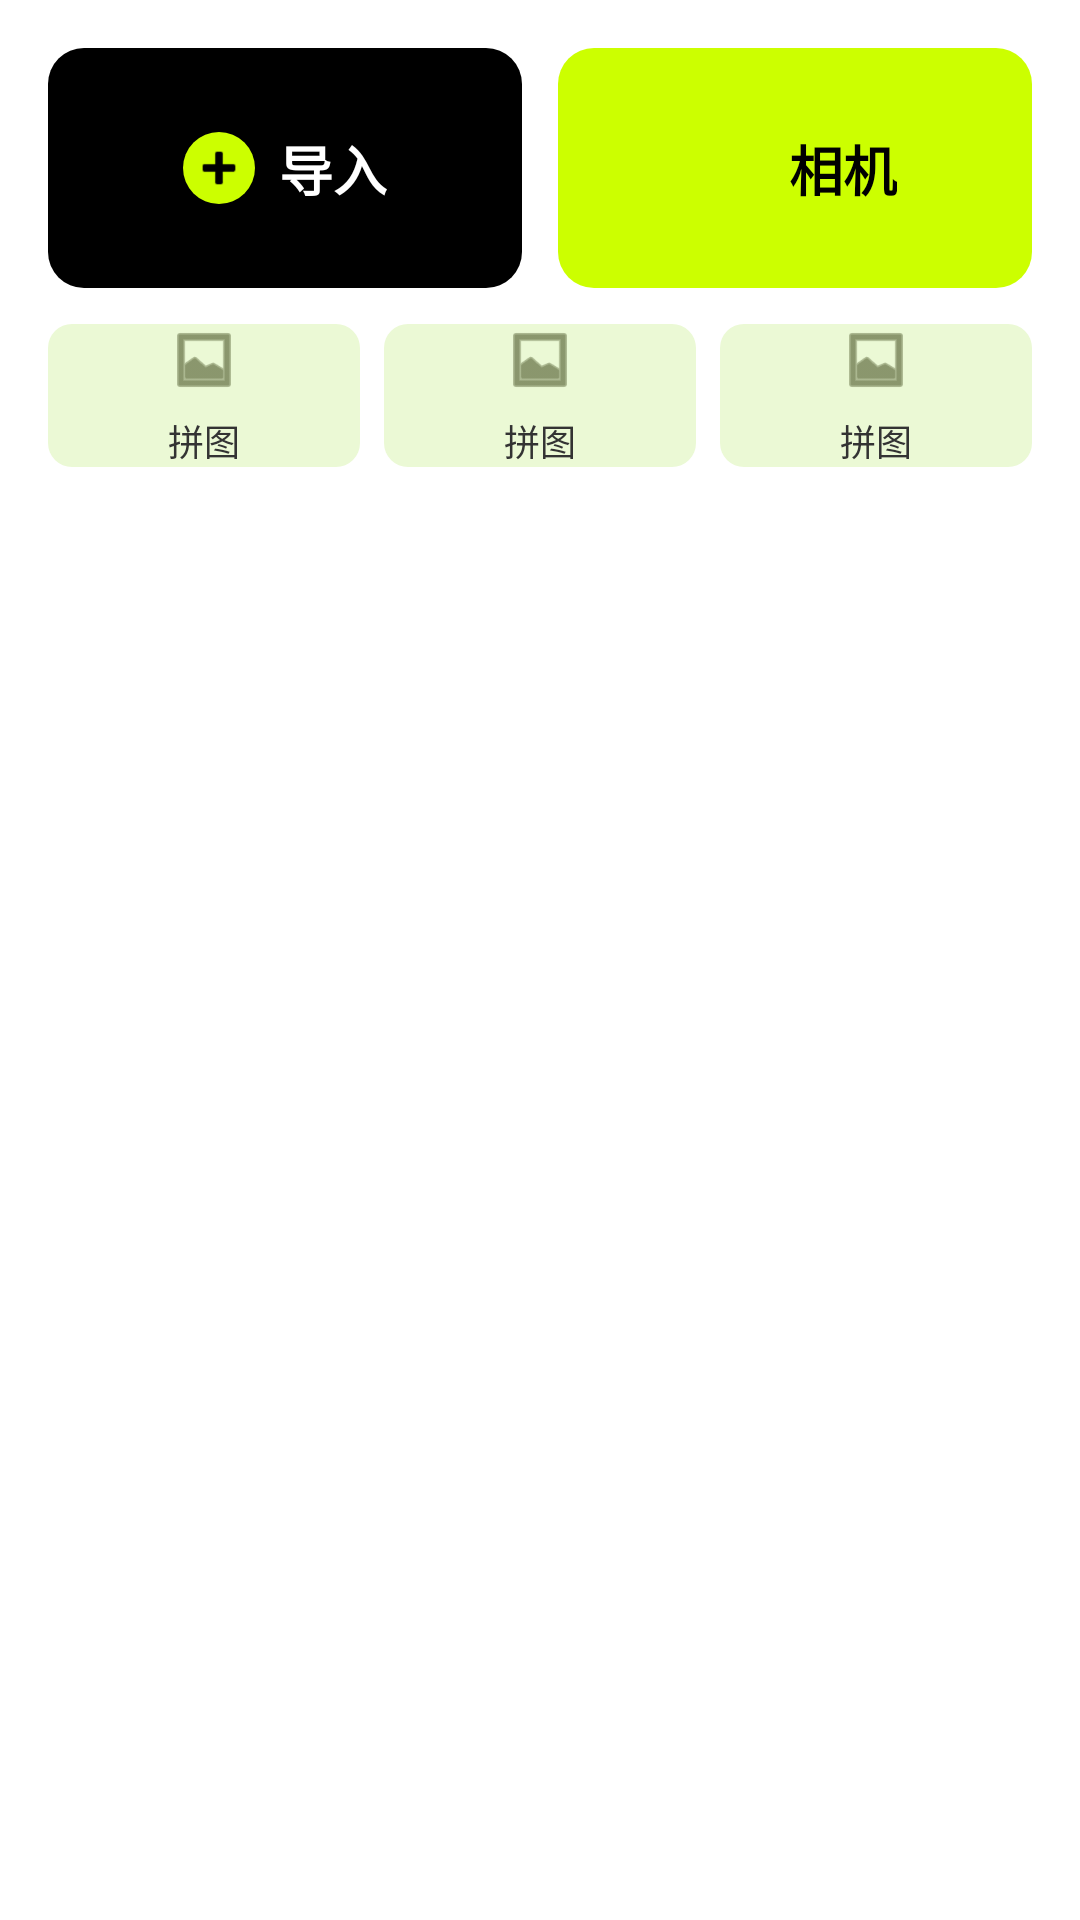

Where to tap for icons on this 1080x1920 app screen, as [x,y]:
add: [219,168]
gallery: [204,360], [540,360], [876,360]
